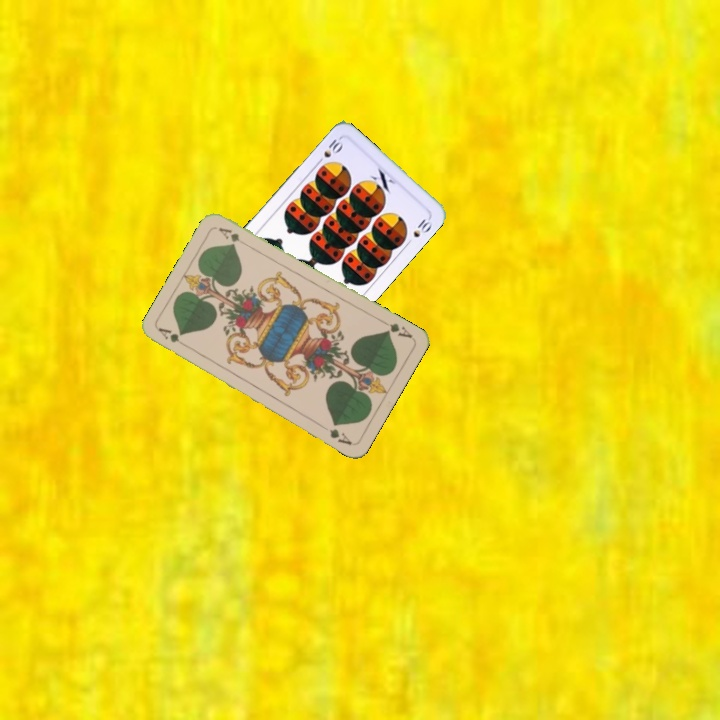GA: (154, 324, 191, 351), (377, 316, 415, 341)
S10: (312, 134, 345, 167)
